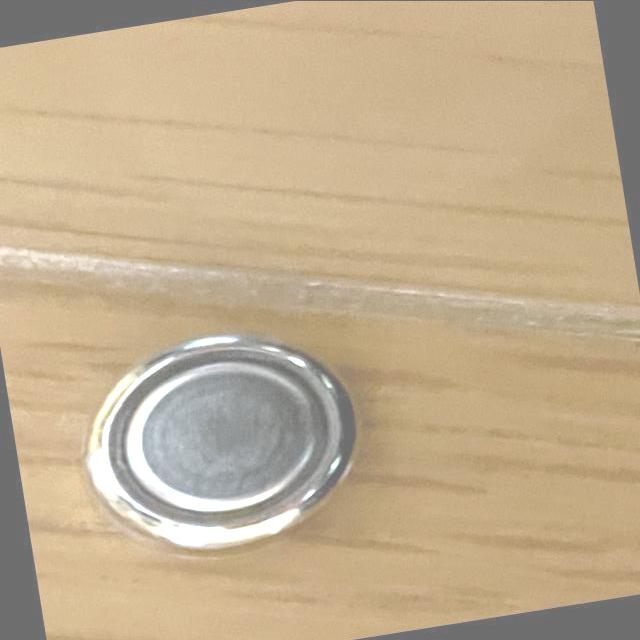COIN: (70, 313, 368, 568)
